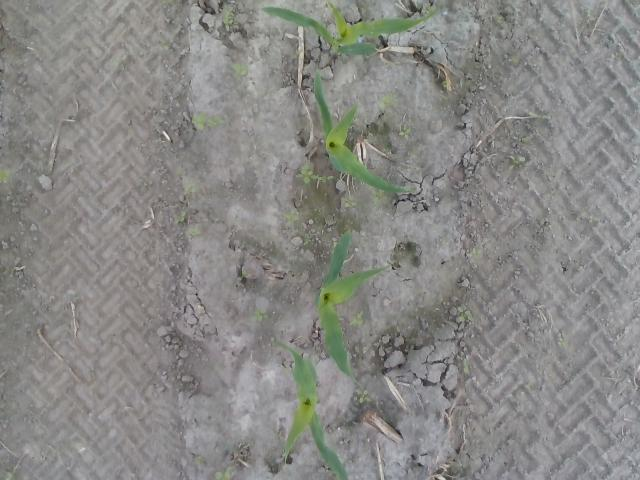Maize: (314, 72, 414, 194), (315, 230, 393, 377), (274, 340, 350, 480), (258, 0, 434, 56)
Weeds: (300, 162, 336, 184), (190, 111, 226, 132), (376, 92, 402, 110), (222, 6, 234, 32), (232, 62, 250, 78), (507, 154, 527, 168), (250, 310, 269, 324), (353, 390, 371, 404), (214, 467, 233, 480), (397, 126, 412, 142), (456, 306, 471, 322), (350, 310, 364, 327), (0, 468, 18, 480), (372, 190, 388, 202), (0, 168, 10, 184), (175, 211, 187, 224), (344, 197, 358, 208), (287, 212, 299, 224), (196, 455, 206, 464), (557, 336, 566, 346), (441, 80, 447, 88)
